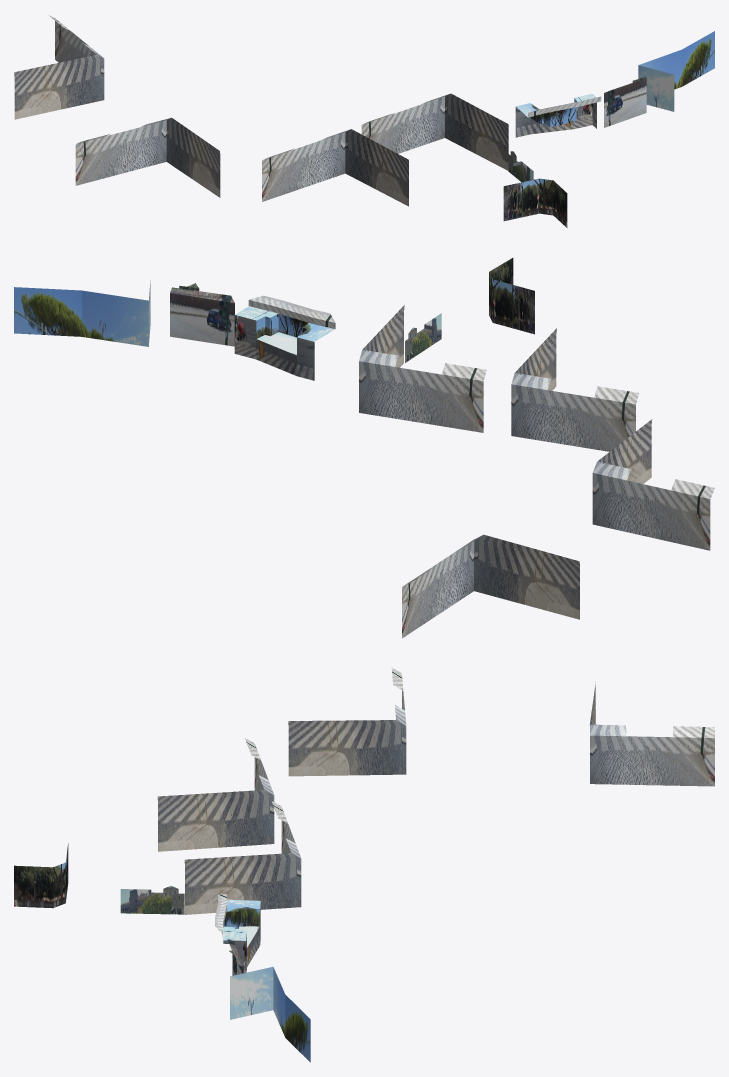
File: city4.FBX
3 renders of one model, top to bottom at view 1: azimuth 30°, elevation 25°; view 2: azimuth 150°, elevation 25°; view 3: azimuth 270°, elevation 25°, orthographic. The views are drawn at different scales.
Visible parts, largest first — view 1: Plane030; view 2: Plane030; view 3: Plane030.
Part boxes in pixels (x1,y1,x2,y2): Plane030: (14, 15, 714, 227); Plane030: (14, 258, 714, 638); Plane030: (14, 667, 714, 1062).
Bounding box in the file's own units: 41208 × 3102 × 35797.
